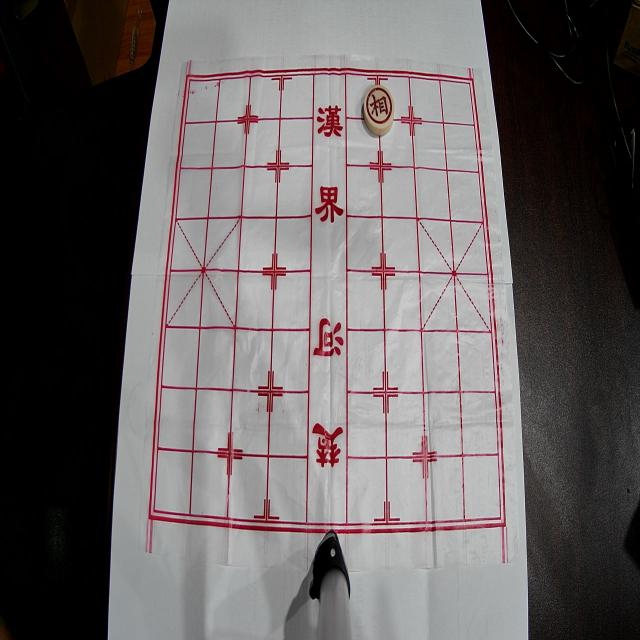red-elephant: (364, 85, 394, 135)
